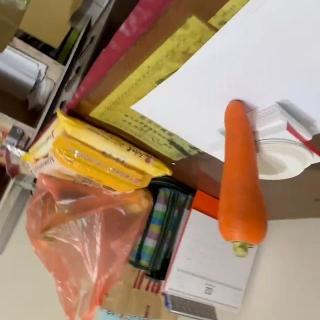carrot: (216, 98, 270, 255)
